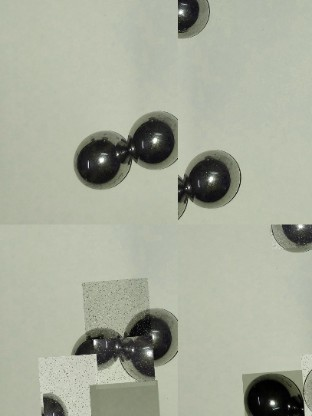ironball: (80, 280, 149, 341), (34, 355, 97, 415), (75, 127, 135, 188), (185, 148, 247, 204), (127, 304, 183, 364), (90, 337, 152, 391), (239, 371, 303, 415), (126, 113, 175, 169), (86, 382, 157, 415), (179, 0, 215, 38), (269, 224, 311, 251)
